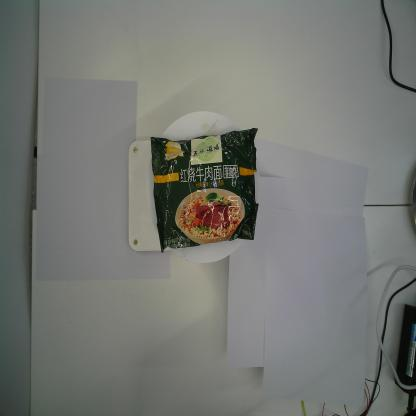Instant Noodles: (150, 127, 259, 254)
